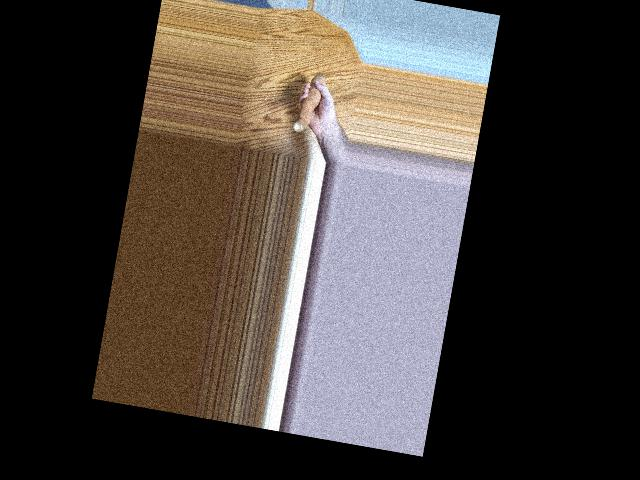sweet_potato: (294, 76, 329, 140)
